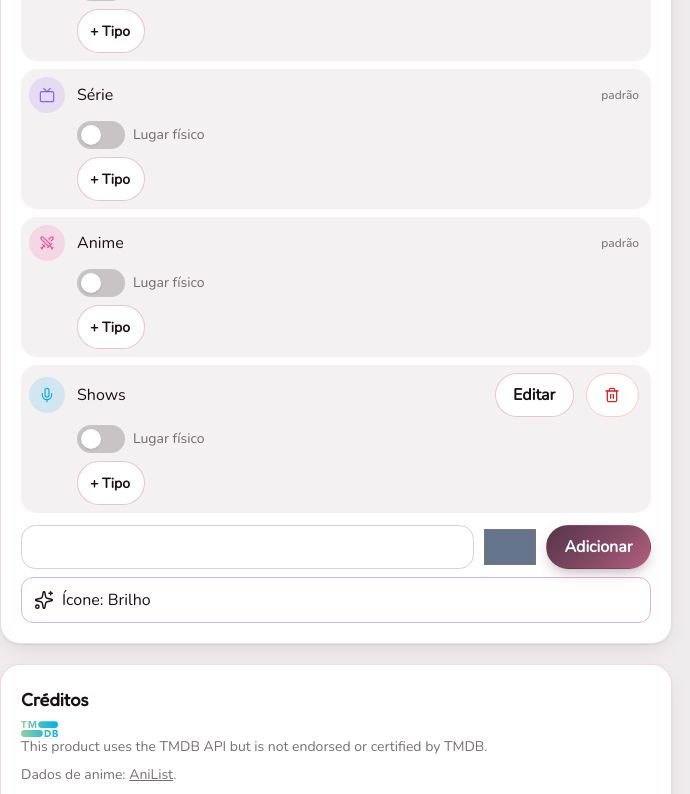
Scenario: refuses to delete a category in use
(page scrolled)
Click the button named "Excluir Shows": (612, 395) [586,373,639,417]
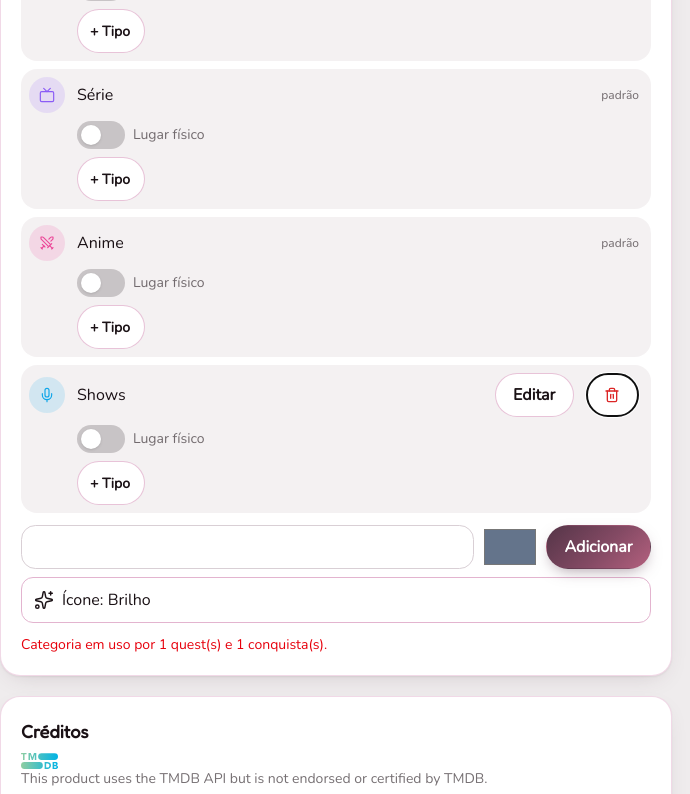
Result: the message reads "Categoria em uso por 1 quest(s) e 1 conquista(s)." at [21,635,327,654]
